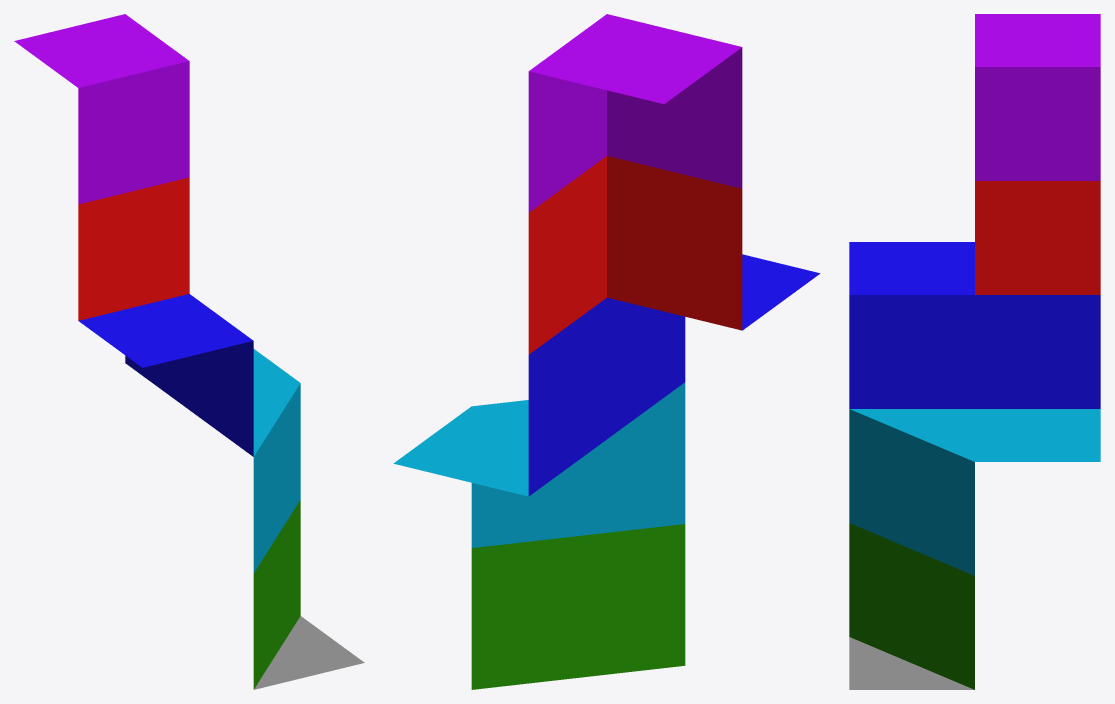
The picture shows the model from 3 angles, left to right: view 1: azimuth 30°, elevation 25°; view 2: azimuth 150°, elevation 25°; view 3: azimuth 270°, elevation 25°; orthographic projection. The views are drawn at different scales.
Visible parts, largest first — view 1: T_22677_0_0; view 2: T_22677_0_0; view 3: T_22677_0_0.
Boxes of the visible parts, bbox=[...] form: T_22677_0_0: bbox=[14, 14, 364, 689]; T_22677_0_0: bbox=[393, 14, 820, 689]; T_22677_0_0: bbox=[849, 14, 1100, 689].
Bounding box in the file's own units: 99.79 × 250 × 99.81.
